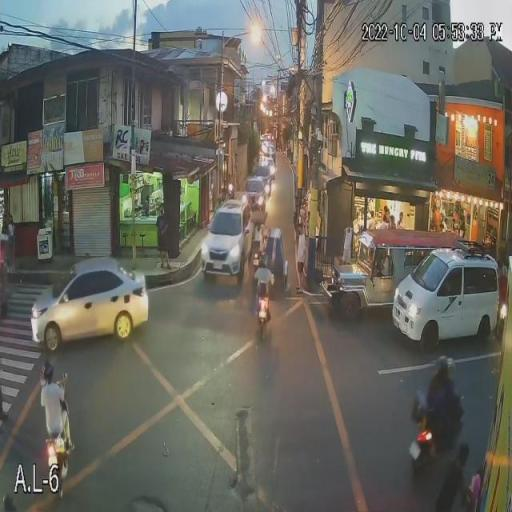helmet: (38, 360, 57, 386), (435, 357, 455, 378), (257, 253, 269, 269)
motorcycle: (409, 399, 466, 479), (37, 418, 78, 489), (256, 291, 271, 328)
rider: (425, 361, 455, 432), (39, 380, 66, 438), (256, 266, 272, 303)
